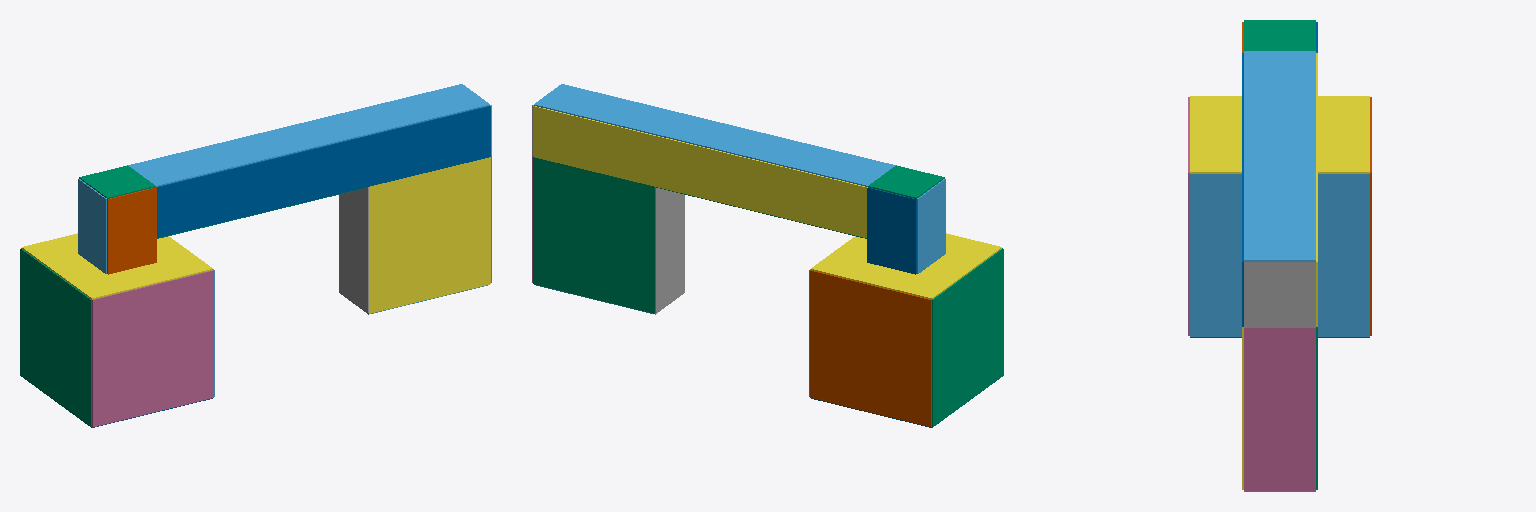
--- Facts derived from the render (not from the file) ---
Views: 3 orthographic renders of the robot side by side, from view 1: azimuth 30°, elevation 25°; view 2: azimuth 150°, elevation 25°; view 3: azimuth 270°, elevation 25°.
Model robot with 37 links and 36 joints (1 continuous, 35 fixed), rooted at body, posed every joint at zero.
Links seen in each view (by area): view 1: arm_sensor_0_right, body_sensor_0_right, hand_1_sensor_0_right, arm_sensor_0_top, body_sensor_0_stop, body_sensor_0_top, shoulder_sensor_0_right, hand_1_sensor_0_stop, shoulder_sensor_0_stop, shoulder_sensor_0_top; view 2: arm_sensor_0_left, body_sensor_0_left, hand_1_sensor_0_left, arm_sensor_0_top, body_sensor_0_stop, body_sensor_0_top, shoulder_sensor_0_left, hand_1_sensor_0_stop, shoulder_sensor_0_stop, shoulder_sensor_0_top; view 3: body_sensor_0_start, arm_sensor_0_top, hand_1_sensor_0_start, body_sensor_0_top, arm_sensor_0_start, shoulder_sensor_0_top, arm_sensor_0_left, arm_sensor_0_right.
Link boxes in pixels (bbox=[...]): arm_sensor_0_right: bbox=[156, 106, 490, 237]; body_sensor_0_right: bbox=[92, 270, 213, 426]; hand_1_sensor_0_right: bbox=[369, 157, 490, 313]; arm_sensor_0_top: bbox=[128, 84, 489, 186]; body_sensor_0_stop: bbox=[20, 248, 91, 426]; body_sensor_0_top: bbox=[22, 233, 212, 299]; shoulder_sensor_0_right: bbox=[107, 187, 156, 274]; hand_1_sensor_0_stop: bbox=[339, 187, 368, 313]; shoulder_sensor_0_stop: bbox=[78, 179, 106, 273]; shoulder_sensor_0_top: bbox=[79, 165, 155, 198]; arm_sensor_0_left: bbox=[533, 106, 867, 237]; body_sensor_0_left: bbox=[810, 270, 931, 426]; hand_1_sensor_0_left: bbox=[533, 157, 654, 313]; arm_sensor_0_top: bbox=[534, 84, 895, 186]; body_sensor_0_stop: bbox=[932, 248, 1003, 426]; body_sensor_0_top: bbox=[811, 233, 1001, 299]; shoulder_sensor_0_left: bbox=[867, 187, 916, 274]; hand_1_sensor_0_stop: bbox=[655, 187, 684, 313]; shoulder_sensor_0_stop: bbox=[917, 179, 945, 273]; shoulder_sensor_0_top: bbox=[868, 165, 944, 198]; body_sensor_0_start: bbox=[1190, 173, 1369, 336]; arm_sensor_0_top: bbox=[1244, 51, 1315, 261]; hand_1_sensor_0_start: bbox=[1244, 328, 1315, 490]; body_sensor_0_top: bbox=[1190, 96, 1369, 172]; arm_sensor_0_start: bbox=[1244, 262, 1315, 327]; shoulder_sensor_0_top: bbox=[1244, 20, 1315, 50]; arm_sensor_0_left: bbox=[1316, 53, 1317, 326]; arm_sensor_0_right: bbox=[1242, 53, 1243, 326].
Size in the robot's own frame: 3.47 by 1.02 by 1.62 metres.
Geometry: primitives only (box / cylinder / sphere), no mesh files.

robot.urdf — robot:
<?xml version="1.0"?>
<robot name="robot">


    <!-- body -->
    <link name="body">
        <inertial>
            <origin xyz="0 0 0" rpy="0 0 0"/>
            <mass value="100"/>
            <inertia ixx=".1" ixy=".1" ixz=".1" iyy=".1" iyz=".1" izz=".1"/>
        </inertial>
        <visual>
            <origin xyz="0 0 0" rpy="0 0 0"/>
            <geometry>
                <box size="1 1 1"/>
            </geometry>
        </visual>
        <collision>
            <origin xyz="0 0 0" rpy="0 0 0"/>
            <geometry>
                <box size="1 1 1"/>
            </geometry>
        </collision>
    </link>


    <!-- body_sensor_0_start -->
    <link name="body_sensor_0_start">
        <inertial>
            <origin xyz="0 0 0" rpy="0 0 0"/>
            <mass value="0"/>
            <inertia ixx=".1" ixy=".1" ixz=".1" iyy=".1" iyz=".1" izz=".1"/>
        </inertial>
        <visual>
            <origin xyz="0 0 0" rpy="0 0 0"/>
            <geometry>
                <box size="0.02 1 1"/>
            </geometry>
        </visual>
        <collision>
            <origin xyz="0 0 0" rpy="0 0 0"/>
            <geometry>
                <box size="0.02 1 1"/>
            </geometry>
        </collision>
    </link>
    <!-- Joint: body, body_sensor_0_start -->
    <joint name="body_body_sensor_0_start_joint" type="fixed">
        <parent link="body"/>
        <child link="body_sensor_0_start"/>
        <origin xyz="0.5 0 0"
                rpy="0 0 0"/>
        <axis xyz="0 0 1"/>
        
    </joint>


    <!-- body_sensor_0_stop -->
    <link name="body_sensor_0_stop">
        <inertial>
            <origin xyz="0 0 0" rpy="0 0 0"/>
            <mass value="0"/>
            <inertia ixx=".1" ixy=".1" ixz=".1" iyy=".1" iyz=".1" izz=".1"/>
        </inertial>
        <visual>
            <origin xyz="0 0 0" rpy="0 0 0"/>
            <geometry>
                <box size="0.02 1 1"/>
            </geometry>
        </visual>
        <collision>
            <origin xyz="0 0 0" rpy="0 0 0"/>
            <geometry>
                <box size="0.02 1 1"/>
            </geometry>
        </collision>
    </link>
    <!-- Joint: body, body_sensor_0_stop -->
    <joint name="body_body_sensor_0_stop_joint" type="fixed">
        <parent link="body"/>
        <child link="body_sensor_0_stop"/>
        <origin xyz="-0.5 0 0"
                rpy="0 0 0"/>
        <axis xyz="0 0 1"/>
        
    </joint>


    <!-- body_sensor_0_top -->
    <link name="body_sensor_0_top">
        <inertial>
            <origin xyz="0 0 0" rpy="0 0 0"/>
            <mass value="0"/>
            <inertia ixx=".1" ixy=".1" ixz=".1" iyy=".1" iyz=".1" izz=".1"/>
        </inertial>
        <visual>
            <origin xyz="0 0 0" rpy="0 0 0"/>
            <geometry>
                <box size="1.0 1 0.02"/>
            </geometry>
        </visual>
        <collision>
            <origin xyz="0 0 0" rpy="0 0 0"/>
            <geometry>
                <box size="1.0 1 0.02"/>
            </geometry>
        </collision>
    </link>
    <!-- Joint: body, body_sensor_0_top -->
    <joint name="body_body_sensor_0_top_joint" type="fixed">
        <parent link="body"/>
        <child link="body_sensor_0_top"/>
        <origin xyz="0 0 0.5"
                rpy="0 0 0"/>
        <axis xyz="0 0 1"/>
        
    </joint>


    <!-- body_sensor_0_bottom -->
    <link name="body_sensor_0_bottom">
        <inertial>
            <origin xyz="0 0 0" rpy="0 0 0"/>
            <mass value="0"/>
            <inertia ixx=".1" ixy=".1" ixz=".1" iyy=".1" iyz=".1" izz=".1"/>
        </inertial>
        <visual>
            <origin xyz="0 0 0" rpy="0 0 0"/>
            <geometry>
                <box size="1.0 1 0.02"/>
            </geometry>
        </visual>
        <collision>
            <origin xyz="0 0 0" rpy="0 0 0"/>
            <geometry>
                <box size="1.0 1 0.02"/>
            </geometry>
        </collision>
    </link>
    <!-- Joint: body, body_sensor_0_bottom -->
    <joint name="body_body_sensor_0_bottom_joint" type="fixed">
        <parent link="body"/>
        <child link="body_sensor_0_bottom"/>
        <origin xyz="0 0 -0.5"
                rpy="0 0 0"/>
        <axis xyz="0 0 1"/>
        
    </joint>


    <!-- body_sensor_0_left -->
    <link name="body_sensor_0_left">
        <inertial>
            <origin xyz="0 0 0" rpy="0 0 0"/>
            <mass value="0"/>
            <inertia ixx=".1" ixy=".1" ixz=".1" iyy=".1" iyz=".1" izz=".1"/>
        </inertial>
        <visual>
            <origin xyz="0 0 0" rpy="0 0 0"/>
            <geometry>
                <box size="1.0 0.02 1"/>
            </geometry>
        </visual>
        <collision>
            <origin xyz="0 0 0" rpy="0 0 0"/>
            <geometry>
                <box size="1.0 0.02 1"/>
            </geometry>
        </collision>
    </link>
    <!-- Joint: body, body_sensor_0_left -->
    <joint name="body_body_sensor_0_left_joint" type="fixed">
        <parent link="body"/>
        <child link="body_sensor_0_left"/>
        <origin xyz="0 0.5 0"
                rpy="0 0 0"/>
        <axis xyz="0 0 1"/>
        
    </joint>


    <!-- body_sensor_0_right -->
    <link name="body_sensor_0_right">
        <inertial>
            <origin xyz="0 0 0" rpy="0 0 0"/>
            <mass value="0"/>
            <inertia ixx=".1" ixy=".1" ixz=".1" iyy=".1" iyz=".1" izz=".1"/>
        </inertial>
        <visual>
            <origin xyz="0 0 0" rpy="0 0 0"/>
            <geometry>
                <box size="1.0 0.02 1"/>
            </geometry>
        </visual>
        <collision>
            <origin xyz="0 0 0" rpy="0 0 0"/>
            <geometry>
                <box size="1.0 0.02 1"/>
            </geometry>
        </collision>
    </link>
    <!-- Joint: body, body_sensor_0_right -->
    <joint name="body_body_sensor_0_right_joint" type="fixed">
        <parent link="body"/>
        <child link="body_sensor_0_right"/>
        <origin xyz="0 -0.5 0"
                rpy="0 0 0"/>
        <axis xyz="0 0 1"/>
        
    </joint>


    <!-- shoulder -->
    <link name="shoulder">
        <inertial>
            <origin xyz="0 0 0" rpy="0 0 0"/>
            <mass value="10"/>
            <inertia ixx=".1" ixy=".1" ixz=".1" iyy=".1" iyz=".1" izz=".1"/>
        </inertial>
        <visual>
            <origin xyz="0 0 0" rpy="0 0 0"/>
            <geometry>
                <box size="0.4 0.4 0.8"/>
            </geometry>
        </visual>
        <collision>
            <origin xyz="0 0 0" rpy="0 0 0"/>
            <geometry>
                <box size="0.4 0.4 0.8"/>
            </geometry>
        </collision>
    </link>


    <!-- shoulder_sensor_0_start -->
    <link name="shoulder_sensor_0_start">
        <inertial>
            <origin xyz="0 0 0" rpy="0 0 0"/>
            <mass value="0"/>
            <inertia ixx=".1" ixy=".1" ixz=".1" iyy=".1" iyz=".1" izz=".1"/>
        </inertial>
        <visual>
            <origin xyz="0 0 0" rpy="0 0 0"/>
            <geometry>
                <box size="0.02 0.4 0.8"/>
            </geometry>
        </visual>
        <collision>
            <origin xyz="0 0 0" rpy="0 0 0"/>
            <geometry>
                <box size="0.02 0.4 0.8"/>
            </geometry>
        </collision>
    </link>
    <!-- Joint: shoulder, shoulder_sensor_0_start -->
    <joint name="shoulder_shoulder_sensor_0_start_joint" type="fixed">
        <parent link="shoulder"/>
        <child link="shoulder_sensor_0_start"/>
        <origin xyz="0.2 0 0"
                rpy="0 0 0"/>
        <axis xyz="0 0 1"/>
        
    </joint>


    <!-- shoulder_sensor_0_stop -->
    <link name="shoulder_sensor_0_stop">
        <inertial>
            <origin xyz="0 0 0" rpy="0 0 0"/>
            <mass value="0"/>
            <inertia ixx=".1" ixy=".1" ixz=".1" iyy=".1" iyz=".1" izz=".1"/>
        </inertial>
        <visual>
            <origin xyz="0 0 0" rpy="0 0 0"/>
            <geometry>
                <box size="0.02 0.4 0.8"/>
            </geometry>
        </visual>
        <collision>
            <origin xyz="0 0 0" rpy="0 0 0"/>
            <geometry>
                <box size="0.02 0.4 0.8"/>
            </geometry>
        </collision>
    </link>
    <!-- Joint: shoulder, shoulder_sensor_0_stop -->
    <joint name="shoulder_shoulder_sensor_0_stop_joint" type="fixed">
        <parent link="shoulder"/>
        <child link="shoulder_sensor_0_stop"/>
        <origin xyz="-0.2 0 0"
                rpy="0 0 0"/>
        <axis xyz="0 0 1"/>
        
    </joint>


    <!-- shoulder_sensor_0_top -->
    <link name="shoulder_sensor_0_top">
        <inertial>
            <origin xyz="0 0 0" rpy="0 0 0"/>
            <mass value="0"/>
            <inertia ixx=".1" ixy=".1" ixz=".1" iyy=".1" iyz=".1" izz=".1"/>
        </inertial>
        <visual>
            <origin xyz="0 0 0" rpy="0 0 0"/>
            <geometry>
                <box size="0.4 0.4 0.02"/>
            </geometry>
        </visual>
        <collision>
            <origin xyz="0 0 0" rpy="0 0 0"/>
            <geometry>
                <box size="0.4 0.4 0.02"/>
            </geometry>
        </collision>
    </link>
    <!-- Joint: shoulder, shoulder_sensor_0_top -->
    <joint name="shoulder_shoulder_sensor_0_top_joint" type="fixed">
        <parent link="shoulder"/>
        <child link="shoulder_sensor_0_top"/>
        <origin xyz="0 0 0.4"
                rpy="0 0 0"/>
        <axis xyz="0 0 1"/>
        
    </joint>


    <!-- shoulder_sensor_0_bottom -->
    <link name="shoulder_sensor_0_bottom">
        <inertial>
            <origin xyz="0 0 0" rpy="0 0 0"/>
            <mass value="0"/>
            <inertia ixx=".1" ixy=".1" ixz=".1" iyy=".1" iyz=".1" izz=".1"/>
        </inertial>
        <visual>
            <origin xyz="0 0 0" rpy="0 0 0"/>
            <geometry>
                <box size="0.4 0.4 0.02"/>
            </geometry>
        </visual>
        <collision>
            <origin xyz="0 0 0" rpy="0 0 0"/>
            <geometry>
                <box size="0.4 0.4 0.02"/>
            </geometry>
        </collision>
    </link>
    <!-- Joint: shoulder, shoulder_sensor_0_bottom -->
    <joint name="shoulder_shoulder_sensor_0_bottom_joint" type="fixed">
        <parent link="shoulder"/>
        <child link="shoulder_sensor_0_bottom"/>
        <origin xyz="0 0 -0.4"
                rpy="0 0 0"/>
        <axis xyz="0 0 1"/>
        
    </joint>


    <!-- shoulder_sensor_0_left -->
    <link name="shoulder_sensor_0_left">
        <inertial>
            <origin xyz="0 0 0" rpy="0 0 0"/>
            <mass value="0"/>
            <inertia ixx=".1" ixy=".1" ixz=".1" iyy=".1" iyz=".1" izz=".1"/>
        </inertial>
        <visual>
            <origin xyz="0 0 0" rpy="0 0 0"/>
            <geometry>
                <box size="0.4 0.02 0.8"/>
            </geometry>
        </visual>
        <collision>
            <origin xyz="0 0 0" rpy="0 0 0"/>
            <geometry>
                <box size="0.4 0.02 0.8"/>
            </geometry>
        </collision>
    </link>
    <!-- Joint: shoulder, shoulder_sensor_0_left -->
    <joint name="shoulder_shoulder_sensor_0_left_joint" type="fixed">
        <parent link="shoulder"/>
        <child link="shoulder_sensor_0_left"/>
        <origin xyz="0 0.2 0"
                rpy="0 0 0"/>
        <axis xyz="0 0 1"/>
        
    </joint>


    <!-- shoulder_sensor_0_right -->
    <link name="shoulder_sensor_0_right">
        <inertial>
            <origin xyz="0 0 0" rpy="0 0 0"/>
            <mass value="0"/>
            <inertia ixx=".1" ixy=".1" ixz=".1" iyy=".1" iyz=".1" izz=".1"/>
        </inertial>
        <visual>
            <origin xyz="0 0 0" rpy="0 0 0"/>
            <geometry>
                <box size="0.4 0.02 0.8"/>
            </geometry>
        </visual>
        <collision>
            <origin xyz="0 0 0" rpy="0 0 0"/>
            <geometry>
                <box size="0.4 0.02 0.8"/>
            </geometry>
        </collision>
    </link>
    <!-- Joint: shoulder, shoulder_sensor_0_right -->
    <joint name="shoulder_shoulder_sensor_0_right_joint" type="fixed">
        <parent link="shoulder"/>
        <child link="shoulder_sensor_0_right"/>
        <origin xyz="0 -0.2 0"
                rpy="0 0 0"/>
        <axis xyz="0 0 1"/>
        
    </joint>
    <!-- Joint: body, shoulder -->
    <joint name="body_shoulder_joint" type="continuous">
        <parent link="body"/>
        <child link="shoulder"/>
        <origin xyz="0 0 0.7"
                rpy="0 0 0"/>
        <axis xyz="0 0 1"/>
        <limit lower="0" upper="0" effort="0" velocity="0"/>
    </joint>


    <!-- arm -->
    <link name="arm">
        <inertial>
            <origin xyz="0 0 0" rpy="0 0 0"/>
            <mass value="10"/>
            <inertia ixx=".1" ixy=".1" ixz=".1" iyy=".1" iyz=".1" izz=".1"/>
        </inertial>
        <visual>
            <origin xyz="0 0 0" rpy="0 0 0"/>
            <geometry>
                <box size="2.75 0.4 0.4"/>
            </geometry>
        </visual>
        <collision>
            <origin xyz="0 0 0" rpy="0 0 0"/>
            <geometry>
                <box size="2.75 0.4 0.4"/>
            </geometry>
        </collision>
    </link>


    <!-- arm_sensor_0_start -->
    <link name="arm_sensor_0_start">
        <inertial>
            <origin xyz="0 0 0" rpy="0 0 0"/>
            <mass value="0"/>
            <inertia ixx=".1" ixy=".1" ixz=".1" iyy=".1" iyz=".1" izz=".1"/>
        </inertial>
        <visual>
            <origin xyz="0 0 0" rpy="0 0 0"/>
            <geometry>
                <box size="0.02 0.4 0.4"/>
            </geometry>
        </visual>
        <collision>
            <origin xyz="0 0 0" rpy="0 0 0"/>
            <geometry>
                <box size="0.02 0.4 0.4"/>
            </geometry>
        </collision>
    </link>
    <!-- Joint: arm, arm_sensor_0_start -->
    <joint name="arm_arm_sensor_0_start_joint" type="fixed">
        <parent link="arm"/>
        <child link="arm_sensor_0_start"/>
        <origin xyz="1.375 0 0"
                rpy="0 0 0"/>
        <axis xyz="0 1 0"/>
        
    </joint>


    <!-- arm_sensor_0_stop -->
    <link name="arm_sensor_0_stop">
        <inertial>
            <origin xyz="0 0 0" rpy="0 0 0"/>
            <mass value="0"/>
            <inertia ixx=".1" ixy=".1" ixz=".1" iyy=".1" iyz=".1" izz=".1"/>
        </inertial>
        <visual>
            <origin xyz="0 0 0" rpy="0 0 0"/>
            <geometry>
                <box size="0.02 0.4 0.4"/>
            </geometry>
        </visual>
        <collision>
            <origin xyz="0 0 0" rpy="0 0 0"/>
            <geometry>
                <box size="0.02 0.4 0.4"/>
            </geometry>
        </collision>
    </link>
    <!-- Joint: arm, arm_sensor_0_stop -->
    <joint name="arm_arm_sensor_0_stop_joint" type="fixed">
        <parent link="arm"/>
        <child link="arm_sensor_0_stop"/>
        <origin xyz="-1.375 0 0"
                rpy="0 0 0"/>
        <axis xyz="0 1 0"/>
        
    </joint>


    <!-- arm_sensor_0_top -->
    <link name="arm_sensor_0_top">
        <inertial>
            <origin xyz="0 0 0" rpy="0 0 0"/>
            <mass value="0"/>
            <inertia ixx=".1" ixy=".1" ixz=".1" iyy=".1" iyz=".1" izz=".1"/>
        </inertial>
        <visual>
            <origin xyz="0 0 0" rpy="0 0 0"/>
            <geometry>
                <box size="2.75 0.4 0.02"/>
            </geometry>
        </visual>
        <collision>
            <origin xyz="0 0 0" rpy="0 0 0"/>
            <geometry>
                <box size="2.75 0.4 0.02"/>
            </geometry>
        </collision>
    </link>
    <!-- Joint: arm, arm_sensor_0_top -->
    <joint name="arm_arm_sensor_0_top_joint" type="fixed">
        <parent link="arm"/>
        <child link="arm_sensor_0_top"/>
        <origin xyz="0 0 0.2"
                rpy="0 0 0"/>
        <axis xyz="0 1 0"/>
        
    </joint>


    <!-- arm_sensor_0_bottom -->
    <link name="arm_sensor_0_bottom">
        <inertial>
            <origin xyz="0 0 0" rpy="0 0 0"/>
            <mass value="0"/>
            <inertia ixx=".1" ixy=".1" ixz=".1" iyy=".1" iyz=".1" izz=".1"/>
        </inertial>
        <visual>
            <origin xyz="0 0 0" rpy="0 0 0"/>
            <geometry>
                <box size="2.75 0.4 0.02"/>
            </geometry>
        </visual>
        <collision>
            <origin xyz="0 0 0" rpy="0 0 0"/>
            <geometry>
                <box size="2.75 0.4 0.02"/>
            </geometry>
        </collision>
    </link>
    <!-- Joint: arm, arm_sensor_0_bottom -->
    <joint name="arm_arm_sensor_0_bottom_joint" type="fixed">
        <parent link="arm"/>
        <child link="arm_sensor_0_bottom"/>
        <origin xyz="0 0 -0.2"
                rpy="0 0 0"/>
        <axis xyz="0 1 0"/>
        
    </joint>


    <!-- arm_sensor_0_left -->
    <link name="arm_sensor_0_left">
        <inertial>
            <origin xyz="0 0 0" rpy="0 0 0"/>
            <mass value="0"/>
            <inertia ixx=".1" ixy=".1" ixz=".1" iyy=".1" iyz=".1" izz=".1"/>
        </inertial>
        <visual>
            <origin xyz="0 0 0" rpy="0 0 0"/>
            <geometry>
                <box size="2.75 0.02 0.4"/>
            </geometry>
        </visual>
        <collision>
            <origin xyz="0 0 0" rpy="0 0 0"/>
            <geometry>
                <box size="2.75 0.02 0.4"/>
            </geometry>
        </collision>
    </link>
    <!-- Joint: arm, arm_sensor_0_left -->
    <joint name="arm_arm_sensor_0_left_joint" type="fixed">
        <parent link="arm"/>
        <child link="arm_sensor_0_left"/>
        <origin xyz="0 0.2 0"
                rpy="0 0 0"/>
        <axis xyz="0 1 0"/>
        
    </joint>


    <!-- arm_sensor_0_right -->
    <link name="arm_sensor_0_right">
        <inertial>
            <origin xyz="0 0 0" rpy="0 0 0"/>
            <mass value="0"/>
            <inertia ixx=".1" ixy=".1" ixz=".1" iyy=".1" iyz=".1" izz=".1"/>
        </inertial>
        <visual>
            <origin xyz="0 0 0" rpy="0 0 0"/>
            <geometry>
                <box size="2.75 0.02 0.4"/>
            </geometry>
        </visual>
        <collision>
            <origin xyz="0 0 0" rpy="0 0 0"/>
            <geometry>
                <box size="2.75 0.02 0.4"/>
            </geometry>
        </collision>
    </link>
    <!-- Joint: arm, arm_sensor_0_right -->
    <joint name="arm_arm_sensor_0_right_joint" type="fixed">
        <parent link="arm"/>
        <child link="arm_sensor_0_right"/>
        <origin xyz="0 -0.2 0"
                rpy="0 0 0"/>
        <axis xyz="0 1 0"/>
        
    </joint>
    <!-- Joint: shoulder, arm -->
    <joint name="shoulder_arm_joint" type="fixed">
        <parent link="shoulder"/>
        <child link="arm"/>
        <origin xyz="1.575 0 0.2"
                rpy="0 0 0"/>
        <axis xyz="0 1 0"/>
        
    </joint>


    <!-- hand_1 -->
    <link name="hand_1">
        <inertial>
            <origin xyz="0 0 0" rpy="0 0 0"/>
            <mass value="10"/>
            <inertia ixx=".1" ixy=".1" ixz=".1" iyy=".1" iyz=".1" izz=".1"/>
        </inertial>
        <visual>
            <origin xyz="0 0 0" rpy="0 0 0"/>
            <geometry>
                <box size="1 0.4 1"/>
            </geometry>
        </visual>
        <collision>
            <origin xyz="0 0 0" rpy="0 0 0"/>
            <geometry>
                <box size="1 0.4 1"/>
            </geometry>
        </collision>
    </link>


    <!-- hand_1_sensor_0_start -->
    <link name="hand_1_sensor_0_start">
        <inertial>
            <origin xyz="0 0 0" rpy="0 0 0"/>
            <mass value="0"/>
            <inertia ixx=".1" ixy=".1" ixz=".1" iyy=".1" iyz=".1" izz=".1"/>
        </inertial>
        <visual>
            <origin xyz="0 0 0" rpy="0 0 0"/>
            <geometry>
                <box size="0.02 0.4 1"/>
            </geometry>
        </visual>
        <collision>
            <origin xyz="0 0 0" rpy="0 0 0"/>
            <geometry>
                <box size="0.02 0.4 1"/>
            </geometry>
        </collision>
    </link>
    <!-- Joint: hand_1, hand_1_sensor_0_start -->
    <joint name="hand_1_hand_1_sensor_0_start_joint" type="fixed">
        <parent link="hand_1"/>
        <child link="hand_1_sensor_0_start"/>
        <origin xyz="0.5 0 0"
                rpy="0 0 0"/>
        <axis xyz="0 1 0"/>
        
    </joint>


    <!-- hand_1_sensor_0_stop -->
    <link name="hand_1_sensor_0_stop">
        <inertial>
            <origin xyz="0 0 0" rpy="0 0 0"/>
            <mass value="0"/>
            <inertia ixx=".1" ixy=".1" ixz=".1" iyy=".1" iyz=".1" izz=".1"/>
        </inertial>
        <visual>
            <origin xyz="0 0 0" rpy="0 0 0"/>
            <geometry>
                <box size="0.02 0.4 1"/>
            </geometry>
        </visual>
        <collision>
            <origin xyz="0 0 0" rpy="0 0 0"/>
            <geometry>
                <box size="0.02 0.4 1"/>
            </geometry>
        </collision>
    </link>
    <!-- Joint: hand_1, hand_1_sensor_0_stop -->
    <joint name="hand_1_hand_1_sensor_0_stop_joint" type="fixed">
        <parent link="hand_1"/>
        <child link="hand_1_sensor_0_stop"/>
        <origin xyz="-0.5 0 0"
                rpy="0 0 0"/>
        <axis xyz="0 1 0"/>
        
    </joint>


    <!-- hand_1_sensor_0_top -->
    <link name="hand_1_sensor_0_top">
        <inertial>
            <origin xyz="0 0 0" rpy="0 0 0"/>
            <mass value="0"/>
            <inertia ixx=".1" ixy=".1" ixz=".1" iyy=".1" iyz=".1" izz=".1"/>
        </inertial>
        <visual>
            <origin xyz="0 0 0" rpy="0 0 0"/>
            <geometry>
                <box size="1.0 0.4 0.02"/>
            </geometry>
        </visual>
        <collision>
            <origin xyz="0 0 0" rpy="0 0 0"/>
            <geometry>
                <box size="1.0 0.4 0.02"/>
            </geometry>
        </collision>
    </link>
    <!-- Joint: hand_1, hand_1_sensor_0_top -->
    <joint name="hand_1_hand_1_sensor_0_top_joint" type="fixed">
        <parent link="hand_1"/>
        <child link="hand_1_sensor_0_top"/>
        <origin xyz="0 0 0.5"
                rpy="0 0 0"/>
        <axis xyz="0 1 0"/>
        
    </joint>


    <!-- hand_1_sensor_0_bottom -->
    <link name="hand_1_sensor_0_bottom">
        <inertial>
            <origin xyz="0 0 0" rpy="0 0 0"/>
            <mass value="0"/>
            <inertia ixx=".1" ixy=".1" ixz=".1" iyy=".1" iyz=".1" izz=".1"/>
        </inertial>
        <visual>
            <origin xyz="0 0 0" rpy="0 0 0"/>
            <geometry>
                <box size="1.0 0.4 0.02"/>
            </geometry>
        </visual>
        <collision>
            <origin xyz="0 0 0" rpy="0 0 0"/>
            <geometry>
                <box size="1.0 0.4 0.02"/>
            </geometry>
        </collision>
    </link>
    <!-- Joint: hand_1, hand_1_sensor_0_bottom -->
    <joint name="hand_1_hand_1_sensor_0_bottom_joint" type="fixed">
        <parent link="hand_1"/>
        <child link="hand_1_sensor_0_bottom"/>
        <origin xyz="0 0 -0.5"
                rpy="0 0 0"/>
        <axis xyz="0 1 0"/>
        
    </joint>


    <!-- hand_1_sensor_0_left -->
    <link name="hand_1_sensor_0_left">
        <inertial>
            <origin xyz="0 0 0" rpy="0 0 0"/>
            <mass value="0"/>
            <inertia ixx=".1" ixy=".1" ixz=".1" iyy=".1" iyz=".1" izz=".1"/>
        </inertial>
        <visual>
            <origin xyz="0 0 0" rpy="0 0 0"/>
            <geometry>
                <box size="1.0 0.02 1"/>
            </geometry>
        </visual>
        <collision>
            <origin xyz="0 0 0" rpy="0 0 0"/>
            <geometry>
                <box size="1.0 0.02 1"/>
            </geometry>
        </collision>
    </link>
    <!-- Joint: hand_1, hand_1_sensor_0_left -->
    <joint name="hand_1_hand_1_sensor_0_left_joint" type="fixed">
        <parent link="hand_1"/>
        <child link="hand_1_sensor_0_left"/>
        <origin xyz="0 0.2 0"
                rpy="0 0 0"/>
        <axis xyz="0 1 0"/>
        
    </joint>


    <!-- hand_1_sensor_0_right -->
    <link name="hand_1_sensor_0_right">
        <inertial>
            <origin xyz="0 0 0" rpy="0 0 0"/>
            <mass value="0"/>
            <inertia ixx=".1" ixy=".1" ixz=".1" iyy=".1" iyz=".1" izz=".1"/>
        </inertial>
        <visual>
            <origin xyz="0 0 0" rpy="0 0 0"/>
            <geometry>
                <box size="1.0 0.02 1"/>
            </geometry>
        </visual>
        <collision>
            <origin xyz="0 0 0" rpy="0 0 0"/>
            <geometry>
                <box size="1.0 0.02 1"/>
            </geometry>
        </collision>
    </link>
    <!-- Joint: hand_1, hand_1_sensor_0_right -->
    <joint name="hand_1_hand_1_sensor_0_right_joint" type="fixed">
        <parent link="hand_1"/>
        <child link="hand_1_sensor_0_right"/>
        <origin xyz="0 -0.2 0"
                rpy="0 0 0"/>
        <axis xyz="0 1 0"/>
        
    </joint>
    <!-- Joint: arm, hand_1 -->
    <joint name="arm_hand_1_joint" type="fixed">
        <parent link="arm"/>
        <child link="hand_1"/>
        <origin xyz="0.875 0 -0.7"
                rpy="0 0 0"/>
        <axis xyz="0 1 0"/>
        
    </joint>


    <!-- body_face_0 -->
    <link name="body_face_0">
        <inertial>
            <origin xyz="0 0 0" rpy="0 0 0"/>
            <mass value="0"/>
            <inertia ixx=".1" ixy=".1" ixz=".1" iyy=".1" iyz=".1" izz=".1"/>
        </inertial>
        <visual>
            <origin xyz="0 0 0" rpy="0 0 0"/>
            <geometry>
                <box size="0.002 0.1111111111111111 0.1111111111111111"/>
            </geometry>
        </visual>
        <collision>
            <origin xyz="0 0 0" rpy="0 0 0"/>
            <geometry>
                <box size="0.002 0.1111111111111111 0.1111111111111111"/>
            </geometry>
        </collision>
    </link>
    <!-- Joint: body, body_face_0 -->
    <joint name="body_body_face_0_joint" type="fixed">
        <parent link="body"/>
        <child link="body_face_0"/>
        <origin xyz="0.501 -0.33333333333333337 0.11111111111111116"
                rpy="0 0 0"/>
        <axis xyz="0 0 1"/>
        
    </joint>


    <!-- body_face_1 -->
    <link name="body_face_1">
        <inertial>
            <origin xyz="0 0 0" rpy="0 0 0"/>
            <mass value="0"/>
            <inertia ixx=".1" ixy=".1" ixz=".1" iyy=".1" iyz=".1" izz=".1"/>
        </inertial>
        <visual>
            <origin xyz="0 0 0" rpy="0 0 0"/>
            <geometry>
                <box size="0.002 0.1111111111111111 0.1111111111111111"/>
            </geometry>
        </visual>
        <collision>
            <origin xyz="0 0 0" rpy="0 0 0"/>
            <geometry>
                <box size="0.002 0.1111111111111111 0.1111111111111111"/>
            </geometry>
        </collision>
    </link>
    <!-- Joint: body, body_face_1 -->
    <joint name="body_body_face_1_joint" type="fixed">
        <parent link="body"/>
        <child link="body_face_1"/>
        <origin xyz="0.501 -0.2222222222222222 0.2222222222222222"
                rpy="0 0 0"/>
        <axis xyz="0 0 1"/>
        
    </joint>


    <!-- body_face_2 -->
    <link name="body_face_2">
        <inertial>
            <origin xyz="0 0 0" rpy="0 0 0"/>
            <mass value="0"/>
            <inertia ixx=".1" ixy=".1" ixz=".1" iyy=".1" iyz=".1" izz=".1"/>
        </inertial>
        <visual>
            <origin xyz="0 0 0" rpy="0 0 0"/>
            <geometry>
                <box size="0.002 0.1111111111111111 0.1111111111111111"/>
            </geometry>
        </visual>
        <collision>
            <origin xyz="0 0 0" rpy="0 0 0"/>
            <geometry>
                <box size="0.002 0.1111111111111111 0.1111111111111111"/>
            </geometry>
        </collision>
    </link>
    <!-- Joint: body, body_face_2 -->
    <joint name="body_body_face_2_joint" type="fixed">
        <parent link="body"/>
        <child link="body_face_2"/>
        <origin xyz="0.501 -0.1111111111111111 0.11111111111111116"
                rpy="0 0 0"/>
        <axis xyz="0 0 1"/>
        
    </joint>


    <!-- body_face_3 -->
    <link name="body_face_3">
        <inertial>
            <origin xyz="0 0 0" rpy="0 0 0"/>
            <mass value="0"/>
            <inertia ixx=".1" ixy=".1" ixz=".1" iyy=".1" iyz=".1" izz=".1"/>
        </inertial>
        <visual>
            <origin xyz="0 0 0" rpy="0 0 0"/>
            <geometry>
                <box size="0.002 0.1111111111111111 0.1111111111111111"/>
            </geometry>
        </visual>
        <collision>
            <origin xyz="0 0 0" rpy="0 0 0"/>
            <geometry>
                <box size="0.002 0.1111111111111111 0.1111111111111111"/>
            </geometry>
        </collision>
    </link>
    <!-- Joint: body, body_face_3 -->
    <joint name="body_body_face_3_joint" type="fixed">
        <parent link="body"/>
        <child link="body_face_3"/>
        <origin xyz="0.501 -0.1111111111111111 -0.2222222222222222"
                rpy="0 0 0"/>
        <axis xyz="0 0 1"/>
        
    </joint>


    <!-- body_face_4 -->
    <link name="body_face_4">
        <inertial>
            <origin xyz="0 0 0" rpy="0 0 0"/>
            <mass value="0"/>
            <inertia ixx=".1" ixy=".1" ixz=".1" iyy=".1" iyz=".1" izz=".1"/>
        </inertial>
        <visual>
            <origin xyz="0 0 0" rpy="0 0 0"/>
            <geometry>
                <box size="0.002 0.1111111111111111 0.1111111111111111"/>
            </geometry>
        </visual>
        <collision>
            <origin xyz="0 0 0" rpy="0 0 0"/>
            <geometry>
                <box size="0.002 0.1111111111111111 0.1111111111111111"/>
            </geometry>
        </collision>
    </link>
    <!-- Joint: body, body_face_4 -->
    <joint name="body_body_face_4_joint" type="fixed">
        <parent link="body"/>
        <child link="body_face_4"/>
        <origin xyz="0.501 0.0 -0.2222222222222222"
                rpy="0 0 0"/>
        <axis xyz="0 0 1"/>
        
    </joint>


    <!-- body_face_5 -->
    <link name="body_face_5">
        <inertial>
            <origin xyz="0 0 0" rpy="0 0 0"/>
            <mass value="0"/>
            <inertia ixx=".1" ixy=".1" ixz=".1" iyy=".1" iyz=".1" izz=".1"/>
        </inertial>
        <visual>
            <origin xyz="0 0 0" rpy="0 0 0"/>
            <geometry>
                <box size="0.002 0.1111111111111111 0.1111111111111111"/>
            </geometry>
        </visual>
        <collision>
            <origin xyz="0 0 0" rpy="0 0 0"/>
            <geometry>
                <box size="0.002 0.1111111111111111 0.1111111111111111"/>
            </geometry>
        </collision>
    </link>
    <!-- Joint: body, body_face_5 -->
    <joint name="body_body_face_5_joint" type="fixed">
        <parent link="body"/>
        <child link="body_face_5"/>
        <origin xyz="0.501 0.11111111111111116 0.11111111111111116"
                rpy="0 0 0"/>
        <axis xyz="0 0 1"/>
        
    </joint>


    <!-- body_face_6 -->
    <link name="body_face_6">
        <inertial>
            <origin xyz="0 0 0" rpy="0 0 0"/>
            <mass value="0"/>
            <inertia ixx=".1" ixy=".1" ixz=".1" iyy=".1" iyz=".1" izz=".1"/>
        </inertial>
        <visual>
            <origin xyz="0 0 0" rpy="0 0 0"/>
            <geometry>
                <box size="0.002 0.1111111111111111 0.1111111111111111"/>
            </geometry>
        </visual>
        <collision>
            <origin xyz="0 0 0" rpy="0 0 0"/>
            <geometry>
                <box size="0.002 0.1111111111111111 0.1111111111111111"/>
            </geometry>
        </collision>
    </link>
    <!-- Joint: body, body_face_6 -->
    <joint name="body_body_face_6_joint" type="fixed">
        <parent link="body"/>
        <child link="body_face_6"/>
        <origin xyz="0.501 0.11111111111111116 -0.2222222222222222"
                rpy="0 0 0"/>
        <axis xyz="0 0 1"/>
        
    </joint>


    <!-- body_face_7 -->
    <link name="body_face_7">
        <inertial>
            <origin xyz="0 0 0" rpy="0 0 0"/>
            <mass value="0"/>
            <inertia ixx=".1" ixy=".1" ixz=".1" iyy=".1" iyz=".1" izz=".1"/>
        </inertial>
        <visual>
            <origin xyz="0 0 0" rpy="0 0 0"/>
            <geometry>
                <box size="0.002 0.1111111111111111 0.1111111111111111"/>
            </geometry>
        </visual>
        <collision>
            <origin xyz="0 0 0" rpy="0 0 0"/>
            <geometry>
                <box size="0.002 0.1111111111111111 0.1111111111111111"/>
            </geometry>
        </collision>
    </link>
    <!-- Joint: body, body_face_7 -->
    <joint name="body_body_face_7_joint" type="fixed">
        <parent link="body"/>
        <child link="body_face_7"/>
        <origin xyz="0.501 0.2222222222222222 0.2222222222222222"
                rpy="0 0 0"/>
        <axis xyz="0 0 1"/>
        
    </joint>


    <!-- body_face_8 -->
    <link name="body_face_8">
        <inertial>
            <origin xyz="0 0 0" rpy="0 0 0"/>
            <mass value="0"/>
            <inertia ixx=".1" ixy=".1" ixz=".1" iyy=".1" iyz=".1" izz=".1"/>
        </inertial>
        <visual>
            <origin xyz="0 0 0" rpy="0 0 0"/>
            <geometry>
                <box size="0.002 0.1111111111111111 0.1111111111111111"/>
            </geometry>
        </visual>
        <collision>
            <origin xyz="0 0 0" rpy="0 0 0"/>
            <geometry>
                <box size="0.002 0.1111111111111111 0.1111111111111111"/>
            </geometry>
        </collision>
    </link>
    <!-- Joint: body, body_face_8 -->
    <joint name="body_body_face_8_joint" type="fixed">
        <parent link="body"/>
        <child link="body_face_8"/>
        <origin xyz="0.501 0.33333333333333337 0.11111111111111116"
                rpy="0 0 0"/>
        <axis xyz="0 0 1"/>
        
    </joint>


</robot>
